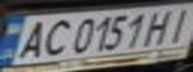0: (69, 15, 97, 54)
1: (121, 10, 154, 48), (93, 12, 115, 52)
5: (106, 11, 133, 51)
A: (12, 18, 51, 61)
C: (36, 17, 72, 57)
H: (139, 7, 181, 46)
I: (160, 3, 193, 44)
